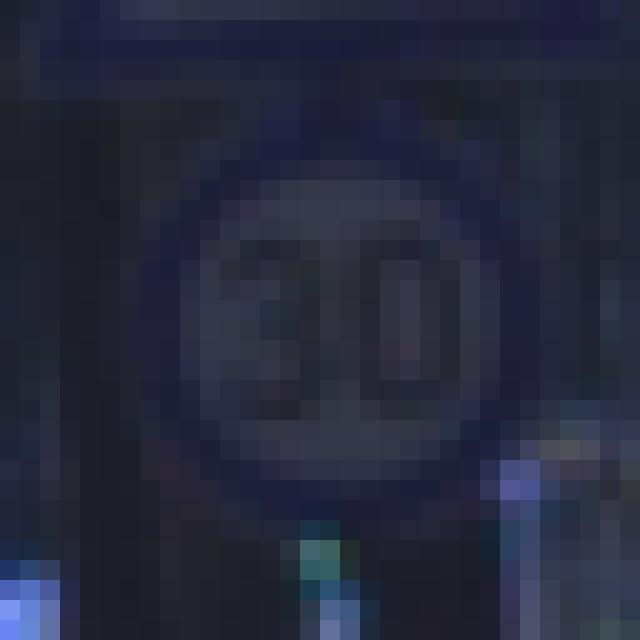SPEED LIMIT 30: (135, 137, 521, 507)
